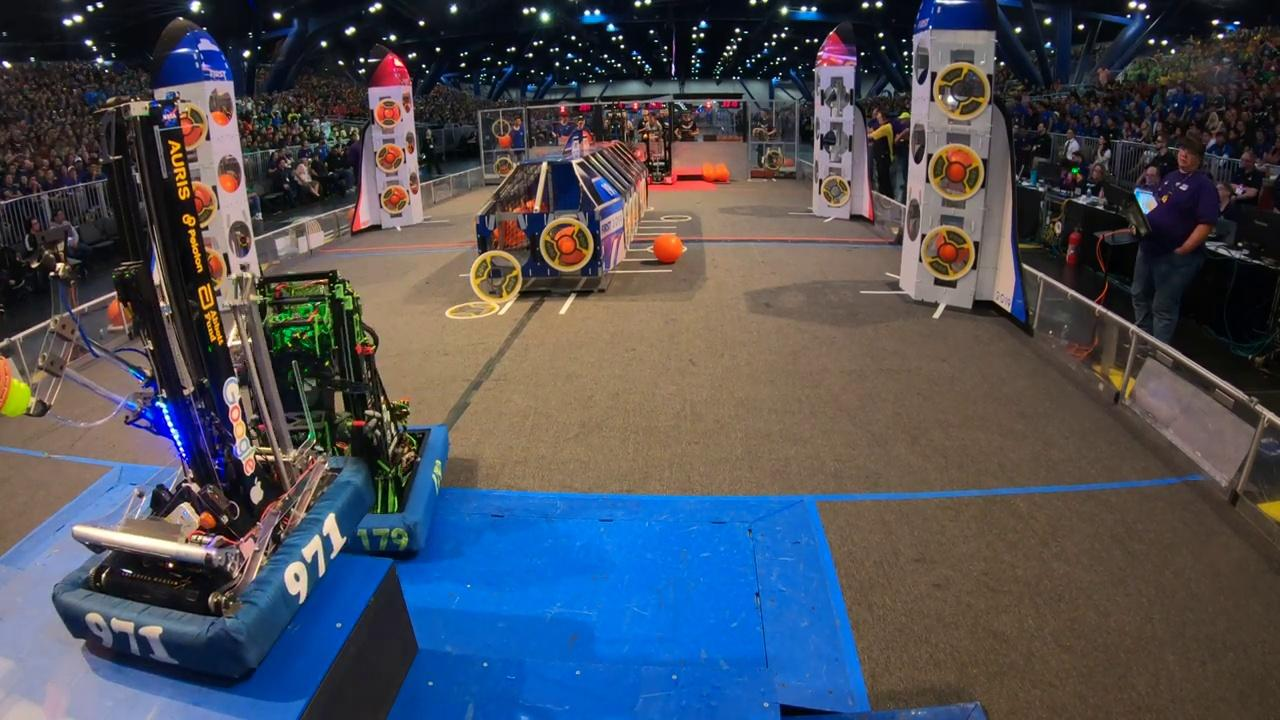robot: (44, 95, 373, 693), (246, 263, 454, 566)
